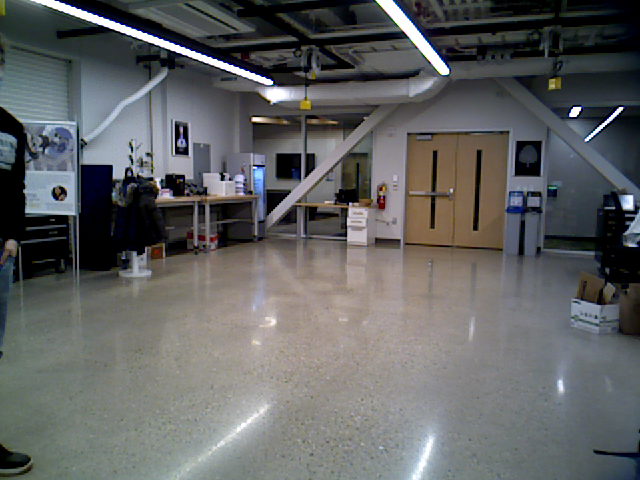painting1: (510, 137, 546, 177)
painting2: (170, 120, 193, 157)
